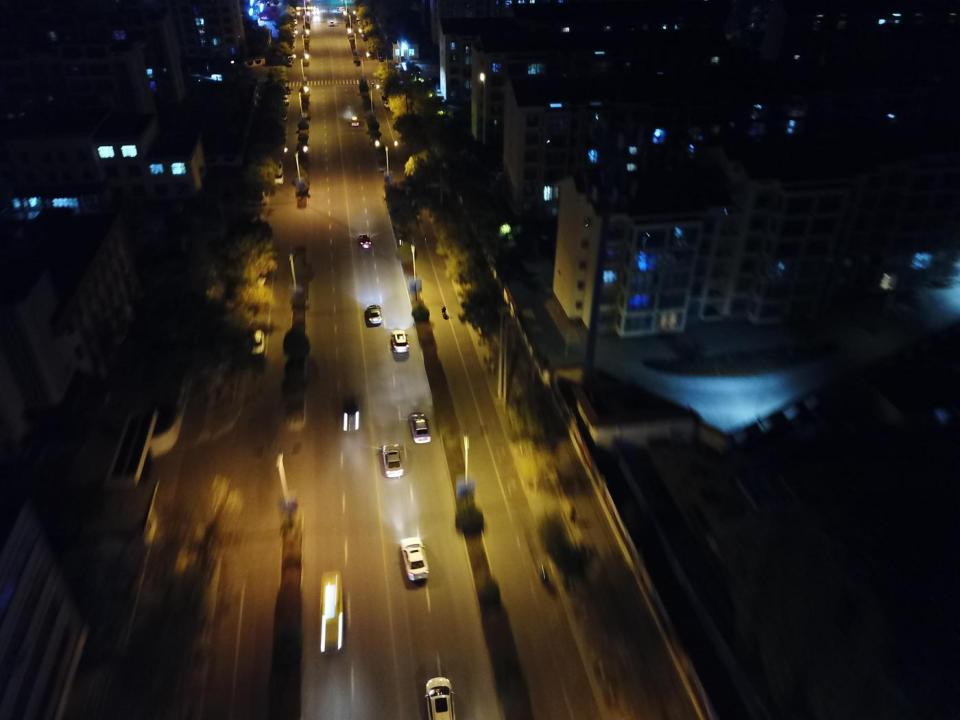car: (320, 572, 344, 653), (400, 537, 430, 583), (426, 675, 452, 720), (342, 394, 361, 434), (382, 444, 404, 477), (411, 413, 429, 442), (251, 329, 265, 355), (392, 332, 409, 353), (365, 303, 381, 325), (536, 233, 551, 255), (359, 232, 370, 250), (272, 172, 284, 184), (272, 160, 283, 173), (429, 77, 443, 84), (280, 94, 288, 106), (351, 116, 359, 126), (281, 86, 290, 94), (279, 112, 287, 120), (382, 91, 390, 99), (385, 99, 392, 108), (260, 15, 269, 21), (291, 20, 297, 26), (291, 28, 297, 34), (288, 56, 294, 61), (289, 53, 295, 58), (288, 47, 294, 52), (288, 42, 293, 48), (286, 60, 291, 66), (329, 20, 334, 26), (363, 36, 369, 41), (362, 30, 367, 36), (358, 21, 363, 26), (379, 56, 384, 61), (290, 26, 296, 30), (288, 33, 296, 36), (313, 10, 319, 14), (290, 36, 295, 40), (314, 6, 318, 10), (357, 15, 360, 20)
